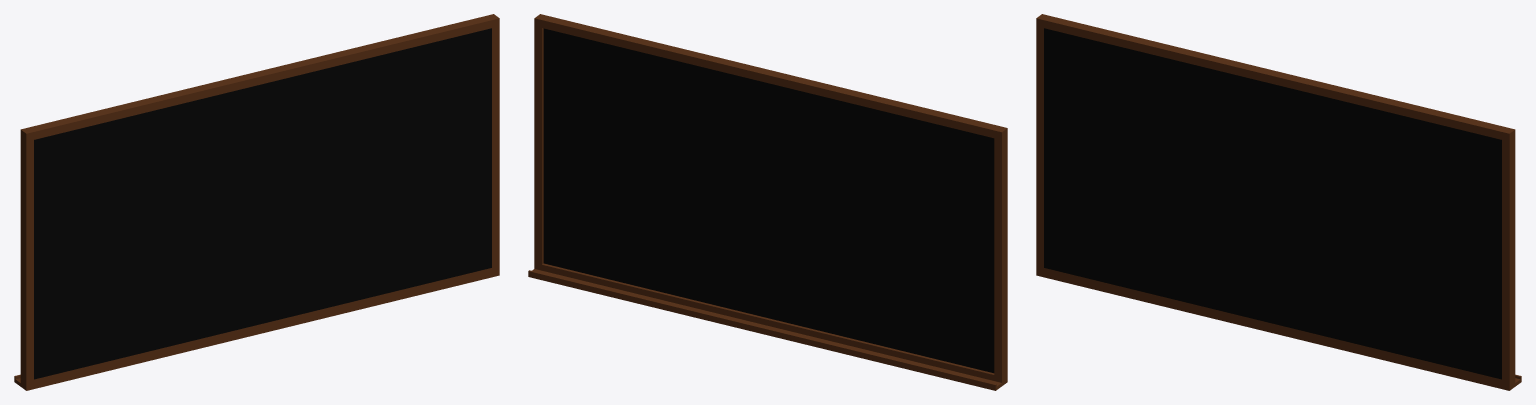
The model's file is Pizarra (1).fbx.
3 views of the same model, side by side, from view 1: azimuth 30°, elevation 25°; view 2: azimuth 150°, elevation 25°; view 3: azimuth 330°, elevation 25° (orthographic).
Visible parts, largest first — view 1: Pizarra; view 2: Pizarra; view 3: Pizarra.
Part boxes in pixels (x1=…): Pizarra: x1=14, y1=14, x2=499, y2=390; Pizarra: x1=528, y1=14, x2=1007, y2=390; Pizarra: x1=1036, y1=14, x2=1521, y2=390.
Size of the model in its own units: 3.1 by 1.61 by 0.1386.
